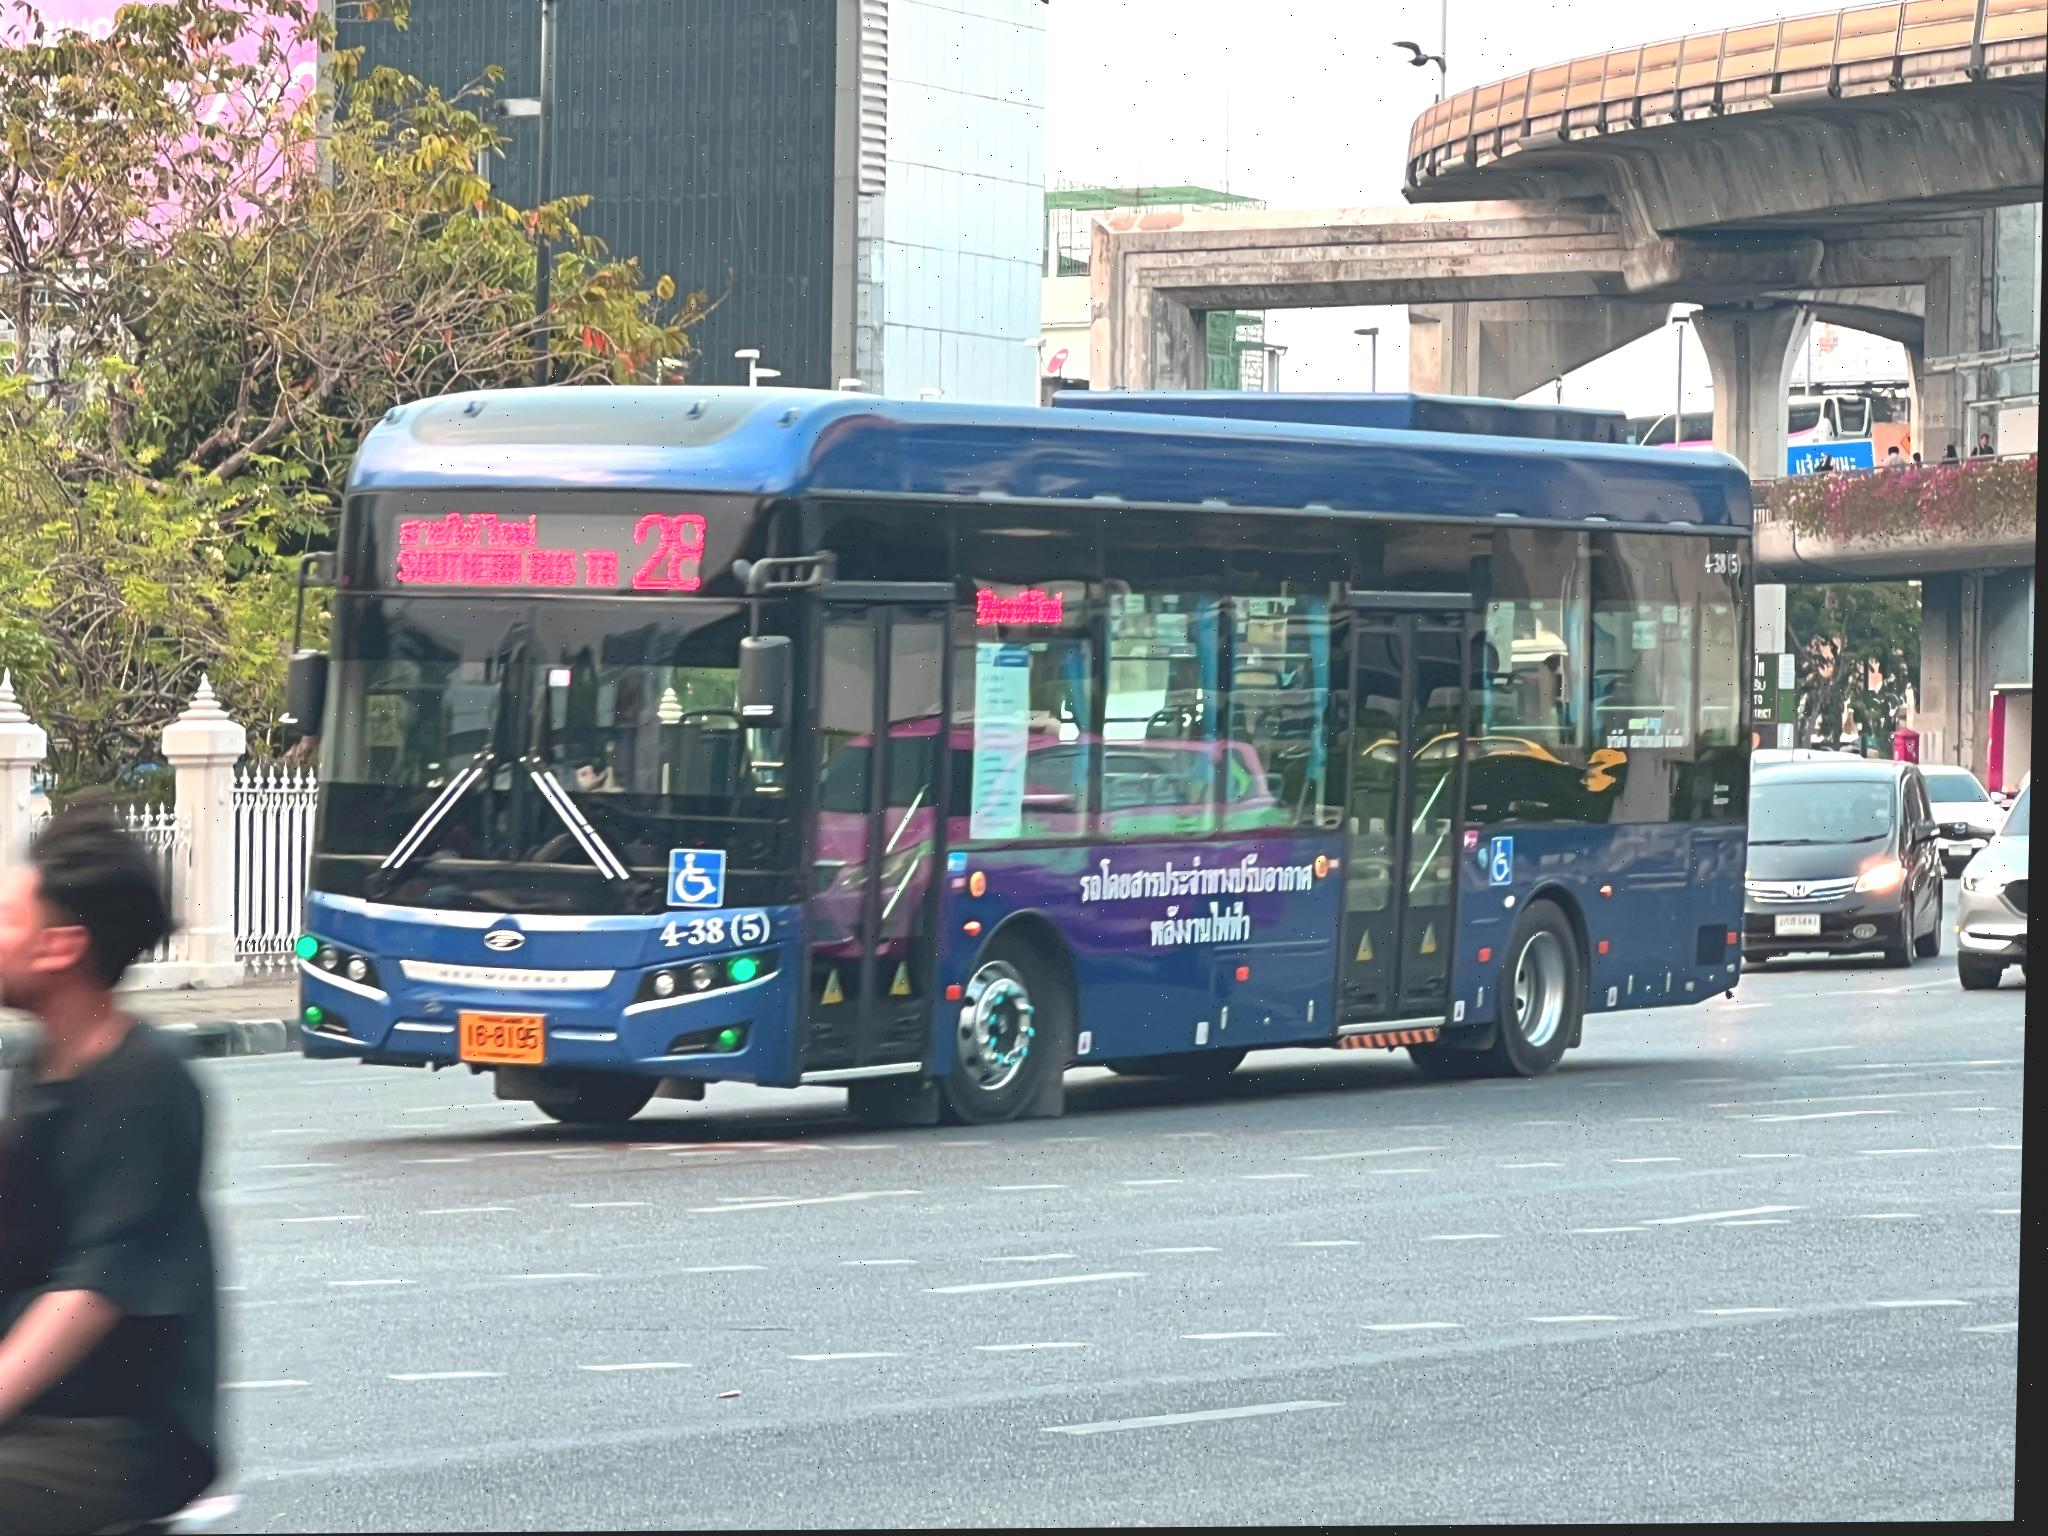Bus Line Number: (622, 500, 713, 603)
Bus Side Number: (655, 907, 784, 954)
Destination Sign: (385, 499, 629, 605)
TSB-Bus: (300, 384, 1759, 1133)
